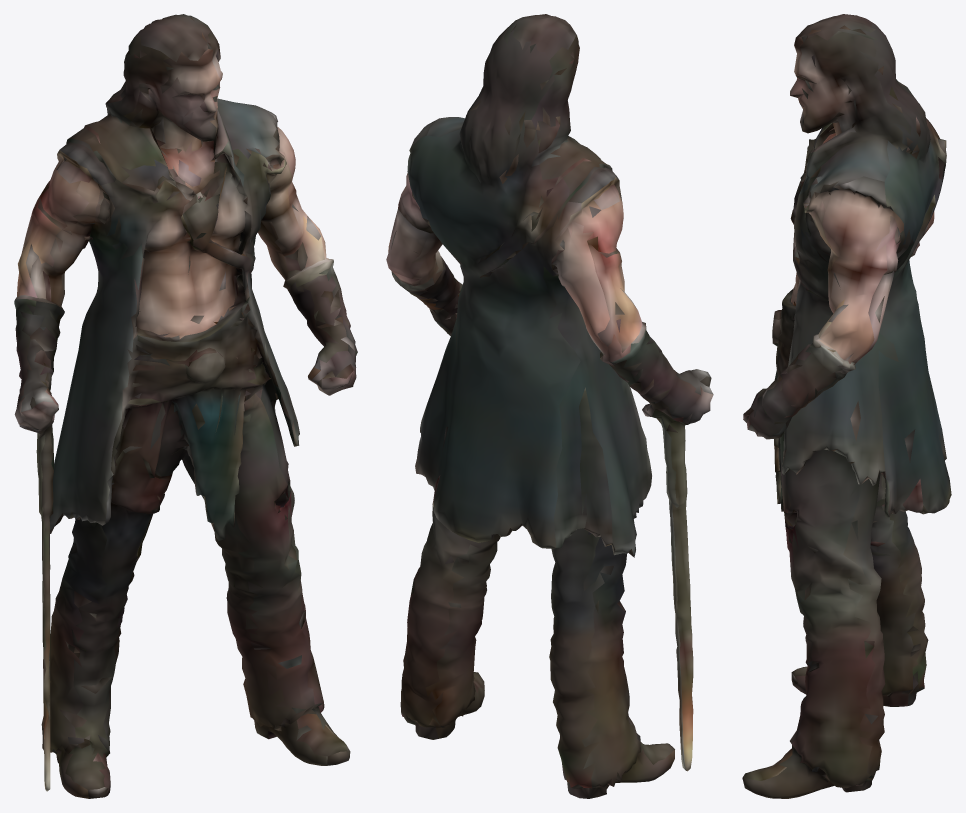
File: Pelarrik_final.glb
3 views of the same model, side by side, from view 1: azimuth 30°, elevation 25°; view 2: azimuth 150°, elevation 25°; view 3: azimuth 270°, elevation 25° (orthographic). The views are drawn at different scales.
Visible parts, largest first — view 1: Mesh_0.001; view 2: Mesh_0.001; view 3: Mesh_0.001.
Boxes of the visible parts, <box> form: Mesh_0.001: <box>14,14,357,798</box>; Mesh_0.001: <box>386,14,713,798</box>; Mesh_0.001: <box>742,14,951,798</box>.
Bounding box in the file's own units: 0.8075 × 1.8 × 0.4748.
1 material, 1 textured.
